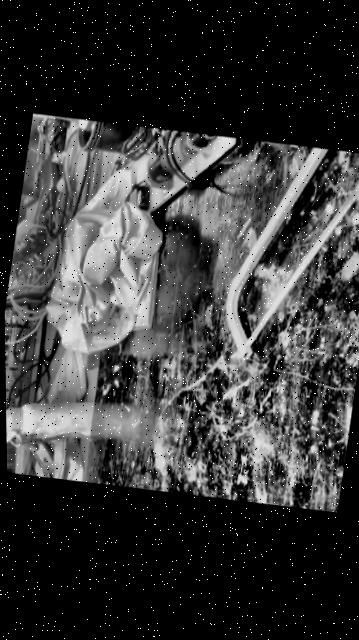pot: (76, 121, 134, 152)
